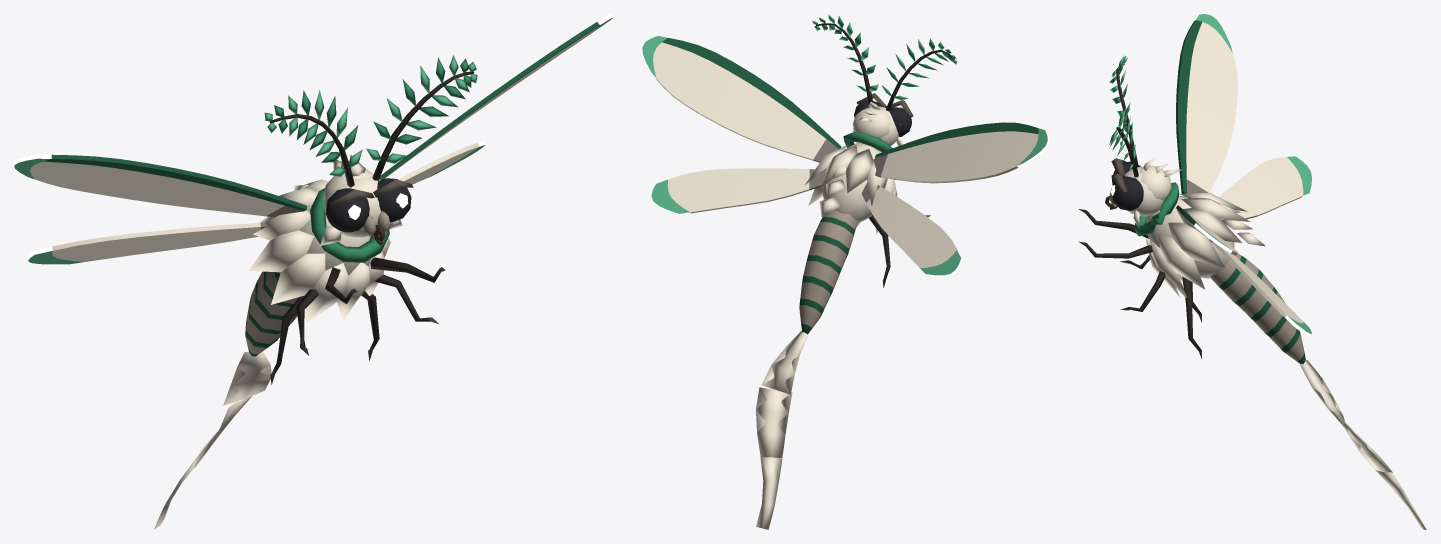
The model's file is moth-lych.glb.
3 views of the same model, side by side, from view 1: azimuth 30°, elevation 25°; view 2: azimuth 150°, elevation 25°; view 3: azimuth 270°, elevation 25° (orthographic). The views are drawn at different scales.
Parts seen in each view (by area): view 1: glide_wing_1, body, sway_feeler_l, sway_feeler_r, glide_wing_0, turn_head, pulse_abdomen, wave_train_0, blink_eye_r, blink_eye_l; view 2: glide_wing_0, glide_wing_1, body, pulse_abdomen, wave_train_1, turn_head, wave_train_0, wave_train_2, sway_feeler_r, sway_feeler_l; view 3: glide_wing_1, body, pulse_abdomen, turn_head, glide_wing_0, wave_train_0, blink_eye_l, sway_feeler_l, sway_feeler_r, wave_train_1, wave_train_2.
Part boxes in pixels (x1=…): glide_wing_1: x1=14, y1=154, x2=306, y2=264; body: x1=248, y1=179, x2=445, y2=384; sway_feeler_l: x1=366, y1=55, x2=477, y2=180; sway_feeler_r: x1=264, y1=90, x2=362, y2=187; glide_wing_0: x1=379, y1=14, x2=613, y2=184; turn_head: x1=320, y1=154, x2=413, y2=245; pulse_abdomen: x1=245, y1=271, x2=298, y2=356; wave_train_0: x1=223, y1=351, x2=271, y2=405; blink_eye_r: x1=325, y1=188, x2=369, y2=232; blink_eye_l: x1=377, y1=178, x2=411, y2=222; glide_wing_0: x1=642, y1=36, x2=841, y2=214; glide_wing_1: x1=861, y1=122, x2=1049, y2=276; body: x1=804, y1=132, x2=930, y2=287; pulse_abdomen: x1=799, y1=210, x2=857, y2=334; wave_train_1: x1=756, y1=387, x2=792, y2=457; turn_head: x1=852, y1=93, x2=913, y2=146; wave_train_0: x1=761, y1=330, x2=808, y2=394; wave_train_2: x1=756, y1=457, x2=782, y2=529; sway_feeler_r: x1=882, y1=38, x2=956, y2=111; sway_feeler_l: x1=812, y1=14, x2=878, y2=106; glide_wing_1: x1=1176, y1=14, x2=1312, y2=219; body: x1=1078, y1=182, x2=1265, y2=358; pulse_abdomen: x1=1210, y1=253, x2=1305, y2=364; turn_head: x1=1105, y1=157, x2=1181, y2=228; glide_wing_0: x1=1176, y1=205, x2=1311, y2=336; wave_train_0: x1=1300, y1=360, x2=1344, y2=426; blink_eye_l: x1=1111, y1=176, x2=1143, y2=210; sway_feeler_l: x1=1109, y1=107, x2=1138, y2=177; sway_feeler_r: x1=1109, y1=55, x2=1138, y2=166; wave_train_1: x1=1344, y1=421, x2=1392, y2=472; wave_train_2: x1=1375, y1=470, x2=1426, y2=529.
Bounding box in the file's own units: 1.08 × 1.02 × 0.7149.
